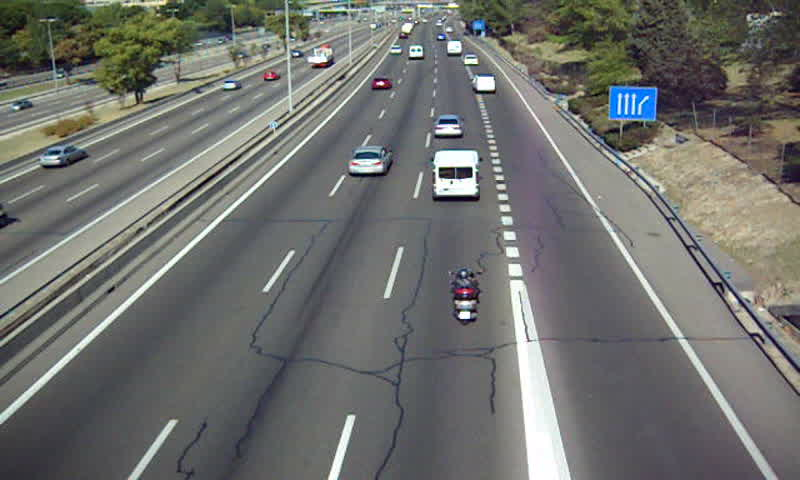car: (345, 146, 393, 176), (432, 116, 464, 140), (372, 77, 390, 91)
motorcycle: (449, 268, 481, 327)
van: (432, 150, 481, 202), (469, 74, 496, 93)
